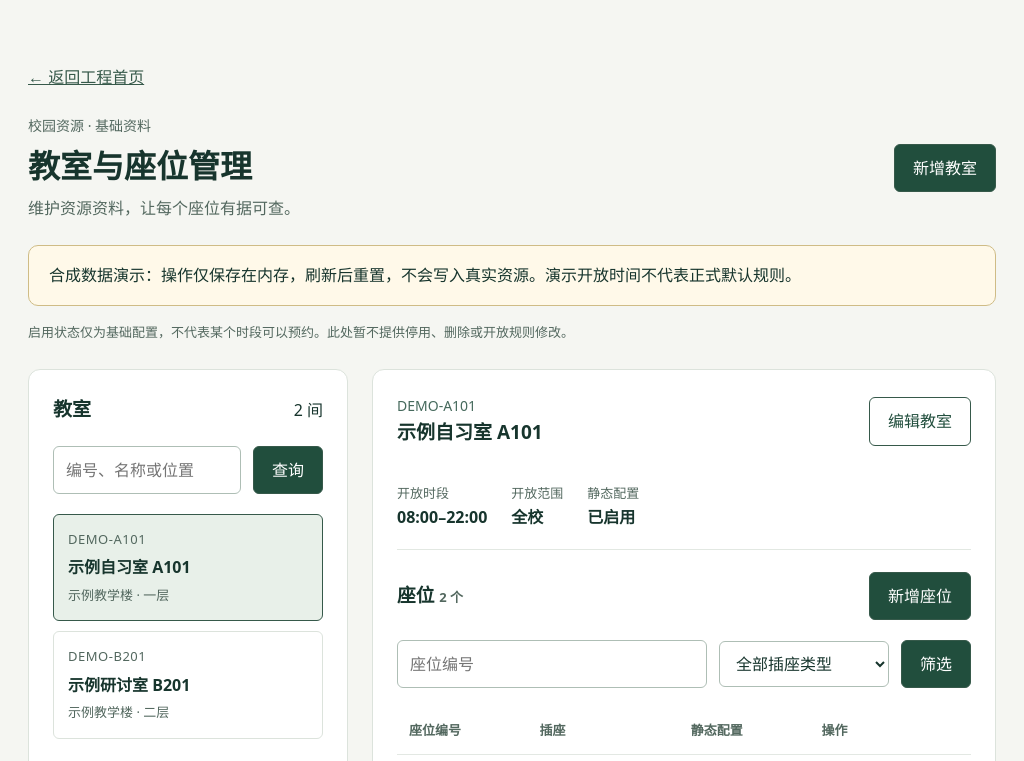
B resource workspace › shows empty search results
The width and height of the screenshot is (1024, 761).
Type "MISSING" into the field with id "room-search" at (147, 470), box [53, 446, 241, 494]
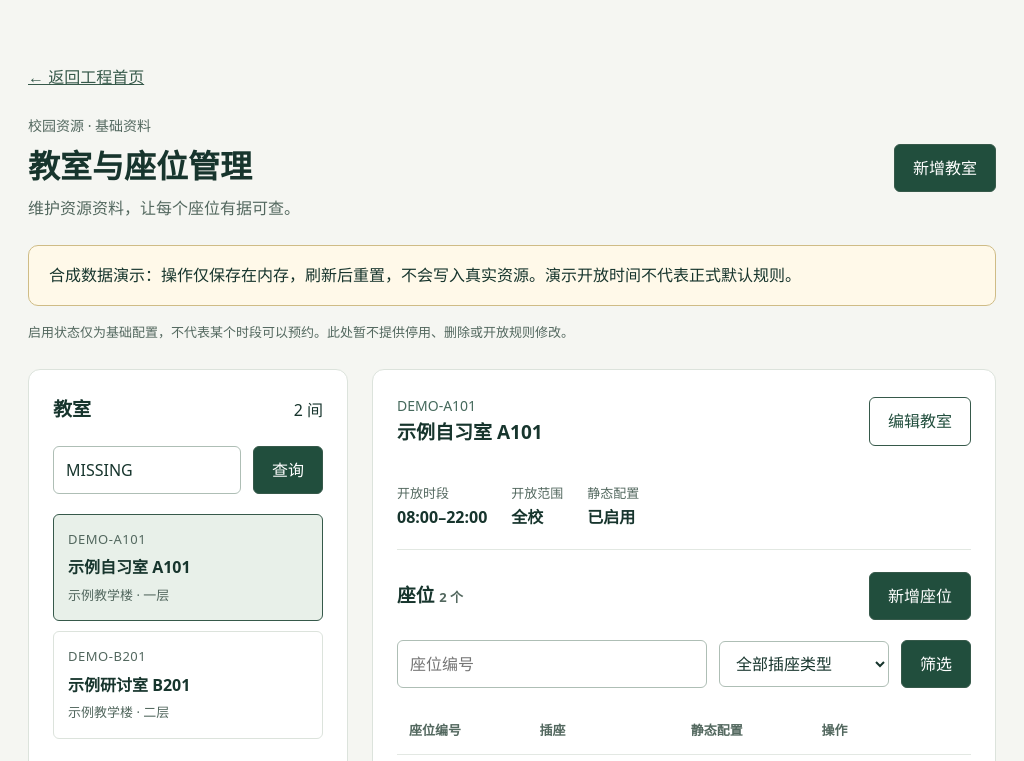
Submit the form "查询", box [53, 446, 323, 494]
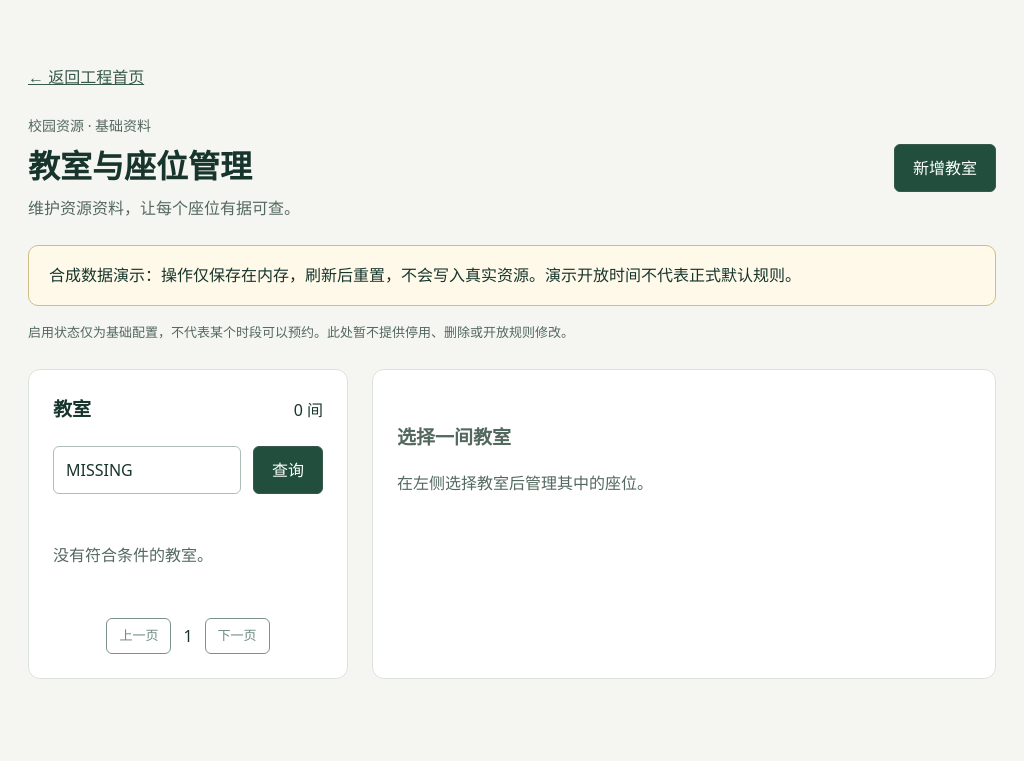
Expected: the text "没有符合条件的教室" is shown, [53, 544, 213, 566]
Expected: no rows are shown
